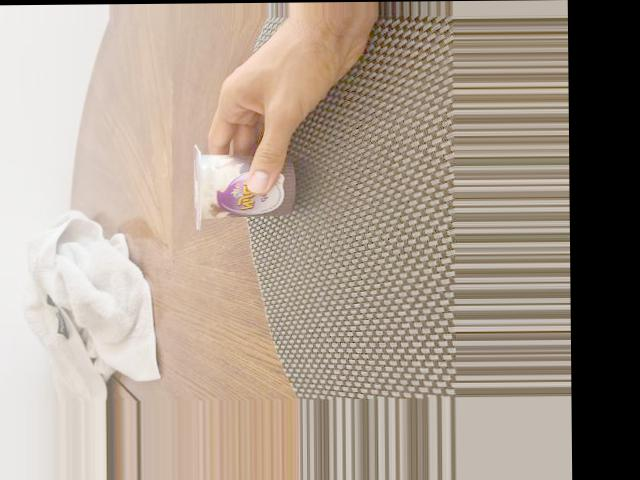milky: (193, 142, 301, 229)
